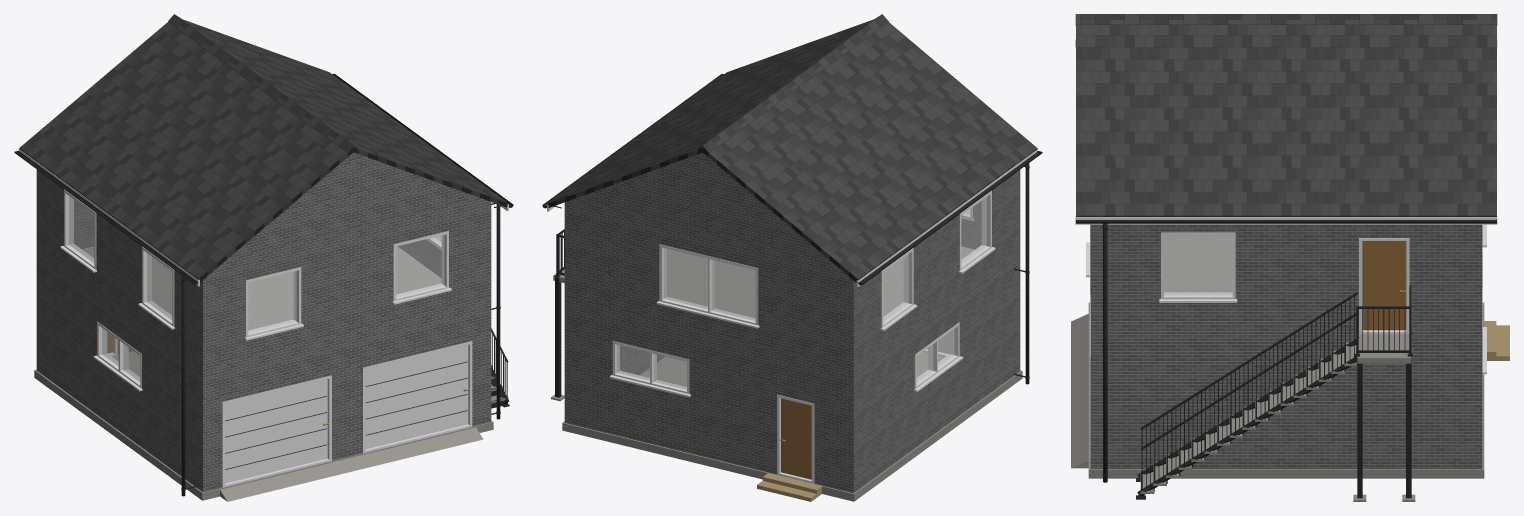
The model's file is garage-apartment.glb.
3 renders of one model, left to right at view 1: azimuth 30°, elevation 25°; view 2: azimuth 150°, elevation 25°; view 3: azimuth 270°, elevation 25°, orthographic. The views are drawn at different scales.
Parts seen in each view (by area): view 1: Garage unified hollow brick walls and gables with actual ope, Garage slate roof closed pitched roof slab, Garage lower east vehicle door closed finite door leaf, Garage lower west vehicle door closed finite door leaf, Garage apartment intermediate structural floor, Garage integral shallow vehicle threshold apron, Garage integral ground floor and foundation, Garage upper apartment front east apartment window finite gl, Garage upper apartment front west apartment window finite gl, Garage slate roof finite ridge cap, Garage lower east vehicle door finite seated frame, Garage lower west vehicle door finite seated frame (+12 smaller); view 2: Garage unified hollow brick walls and gables with actual ope, Garage slate roof closed pitched roof slab, Garage apartment intermediate structural floor, Garage integral ground floor and foundation, Garage upper apartment rear apartment glazing finite glazing, Garage slate roof finite ridge cap, Garage lower rear service door closed finite door leaf, Garage upper apartment rear apartment glazing finite seated , Garage lower rear high window finite glazing, Garage upper apartment west front apartment window finite gl, Garage upper apartment west rear apartment window finite gla, Garage lower rear high window finite seated frame (+11 smaller); view 3: Garage slate roof closed pitched roof slab, Garage unified hollow brick walls and gables with actual ope, Garage slate roof finite ridge cap, Garage upper apartment east front apartment window finite gl, Garage integral ground floor and foundation, Garage apartment intermediate structural floor, Garage upper apartment external stair entrance closed finite, Garage integral shallow vehicle threshold apron, Garage slate roof seated eave fascia 1, Garage eaves 1 open finite gutter with outlet, Apartment upper entrance landing, Garage upper apartment east front apartment window finite se (+9 smaller).
Boxes of the visible parts, bbox=[...] form: Garage unified hollow brick walls and gables with actual ope: bbox=[36, 152, 491, 492]; Garage slate roof closed pitched roof slab: bbox=[19, 19, 508, 281]; Garage lower east vehicle door closed finite door leaf: bbox=[365, 345, 468, 449]; Garage lower west vehicle door closed finite door leaf: bbox=[225, 379, 327, 483]; Garage apartment intermediate structural floor: bbox=[82, 246, 441, 330]; Garage integral shallow vehicle threshold apron: bbox=[220, 427, 483, 501]; Garage integral ground floor and foundation: bbox=[34, 351, 493, 500]; Garage upper apartment front east apartment window finite gl: bbox=[396, 235, 444, 296]; Garage upper apartment front west apartment window finite gl: bbox=[248, 271, 296, 332]; Garage slate roof finite ridge cap: bbox=[168, 14, 359, 153]; Garage lower east vehicle door finite seated frame: bbox=[363, 341, 472, 453]; Garage lower west vehicle door finite seated frame: bbox=[222, 375, 331, 487]; Garage unified hollow brick walls and gables with actual ope: bbox=[564, 152, 1020, 493]; Garage slate roof closed pitched roof slab: bbox=[547, 19, 1037, 282]; Garage apartment intermediate structural floor: bbox=[667, 246, 974, 317]; Garage integral ground floor and foundation: bbox=[562, 352, 1022, 501]; Garage upper apartment rear apartment glazing finite glazing: bbox=[664, 248, 755, 320]; Garage slate roof finite ridge cap: bbox=[696, 14, 888, 153]; Garage lower rear service door closed finite door leaf: bbox=[781, 398, 811, 479]; Garage upper apartment rear apartment glazing finite seated : bbox=[659, 244, 758, 325]; Garage lower rear high window finite glazing: bbox=[617, 345, 686, 389]; Garage upper apartment west front apartment window finite gl: bbox=[961, 197, 986, 264]; Garage upper apartment west rear apartment window finite gla: bbox=[883, 255, 908, 321]; Garage lower rear high window finite seated frame: bbox=[612, 341, 689, 393]; Garage slate roof closed pitched roof slab: bbox=[1076, 25, 1496, 216]; Garage unified hollow brick walls and gables with actual ope: bbox=[1090, 224, 1482, 468]; Garage slate roof finite ridge cap: bbox=[1075, 14, 1497, 25]; Garage upper apartment east front apartment window finite gl: bbox=[1164, 235, 1232, 294]; Garage integral ground floor and foundation: bbox=[1088, 302, 1484, 478]; Garage apartment intermediate structural floor: bbox=[1164, 235, 1232, 292]; Garage upper apartment external stair entrance closed finite: bbox=[1362, 241, 1406, 330]; Garage integral shallow vehicle threshold apron: bbox=[1071, 314, 1088, 468]; Garage slate roof seated eave fascia 1: bbox=[1075, 216, 1497, 224]; Garage eaves 1 open finite gutter with outlet: bbox=[1076, 220, 1496, 223]; Apartment upper entrance landing: bbox=[1357, 334, 1411, 363]; Garage upper apartment east front apartment window finite se: bbox=[1161, 232, 1235, 299].
Bounding box in the file's own units: 9.61 × 8.59 × 8.97.
Materials: 10 (10 with a texture image).
